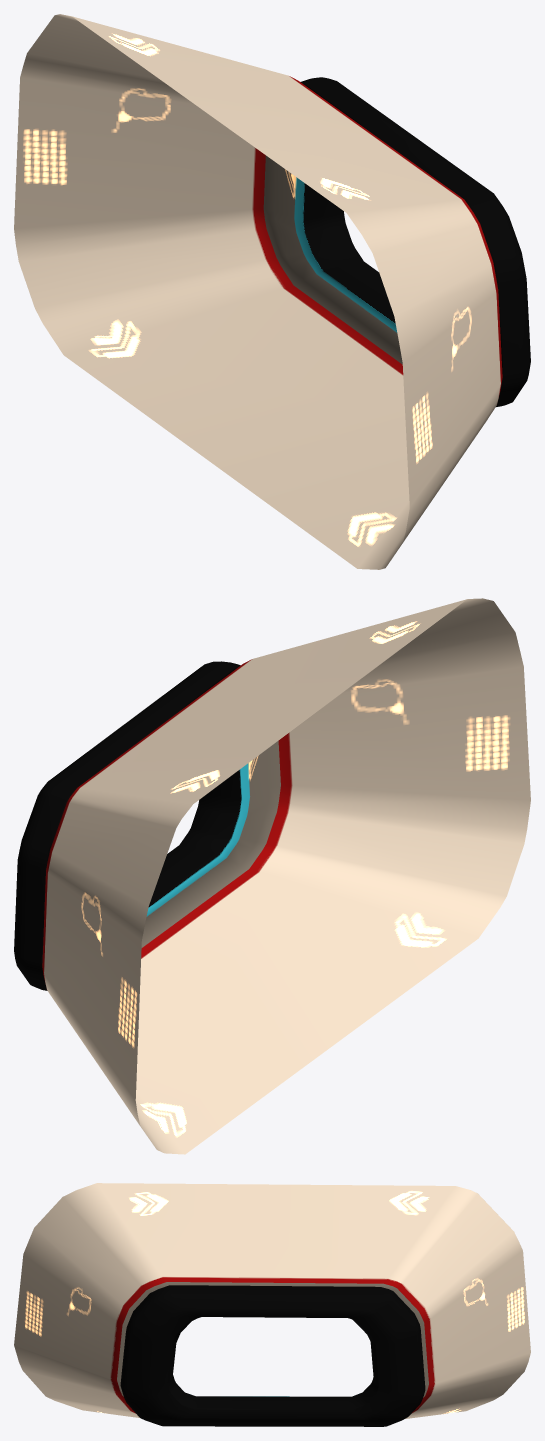
File: SM_RoomToHullConnector.fbx
The picture shows the model from 3 angles, top to bottom: view 1: azimuth 30°, elevation 25°; view 2: azimuth 150°, elevation 25°; view 3: azimuth 270°, elevation 25°; orthographic projection. The views are drawn at different scales.
Visible parts, largest first — view 1: SM_RoomToHullConnector_LOD0; view 2: SM_RoomToHullConnector_LOD0; view 3: SM_RoomToHullConnector_LOD0.
Part boxes in pixels (bbox=[...]): SM_RoomToHullConnector_LOD0: bbox=[14, 14, 530, 569]; SM_RoomToHullConnector_LOD0: bbox=[14, 598, 530, 1154]; SM_RoomToHullConnector_LOD0: bbox=[14, 1183, 530, 1426].
Size of the model in its own units: 201 by 631 by 307.
Materials: 1 (1 with a texture image).
